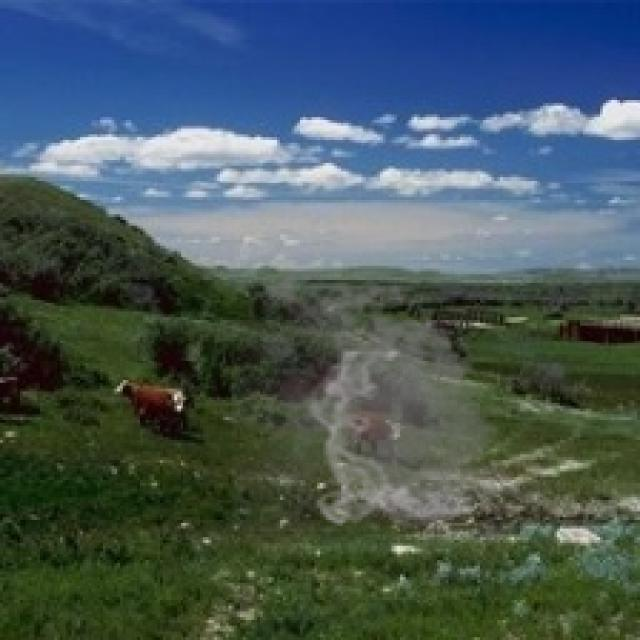smoke: (232, 266, 514, 534)
